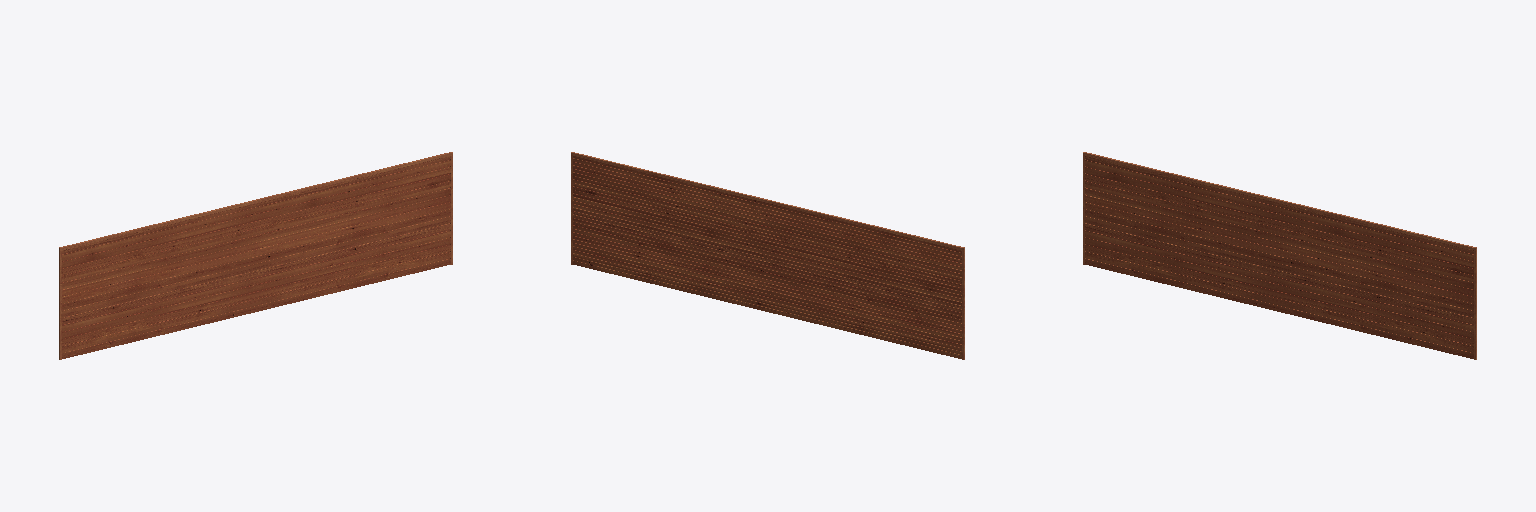
The picture shows the model from 3 angles: view 1: azimuth 30°, elevation 25°; view 2: azimuth 150°, elevation 25°; view 3: azimuth 330°, elevation 25°; orthographic projection.
Visible parts, largest first — view 1: wall_planks, trim_top; view 2: wall_planks, trim_top; view 3: wall_planks, trim_top.
Part boxes in pixels (bbox=[...]): wall_planks: bbox=[62, 156, 450, 358]; trim_top: bbox=[59, 152, 452, 250]; wall_planks: bbox=[573, 156, 961, 358]; trim_top: bbox=[571, 152, 964, 250]; wall_planks: bbox=[1085, 156, 1473, 358]; trim_top: bbox=[1083, 152, 1476, 250].
Size of the model in its own units: 348 by 94.5 by 1.82.
2 materials, 2 textured.